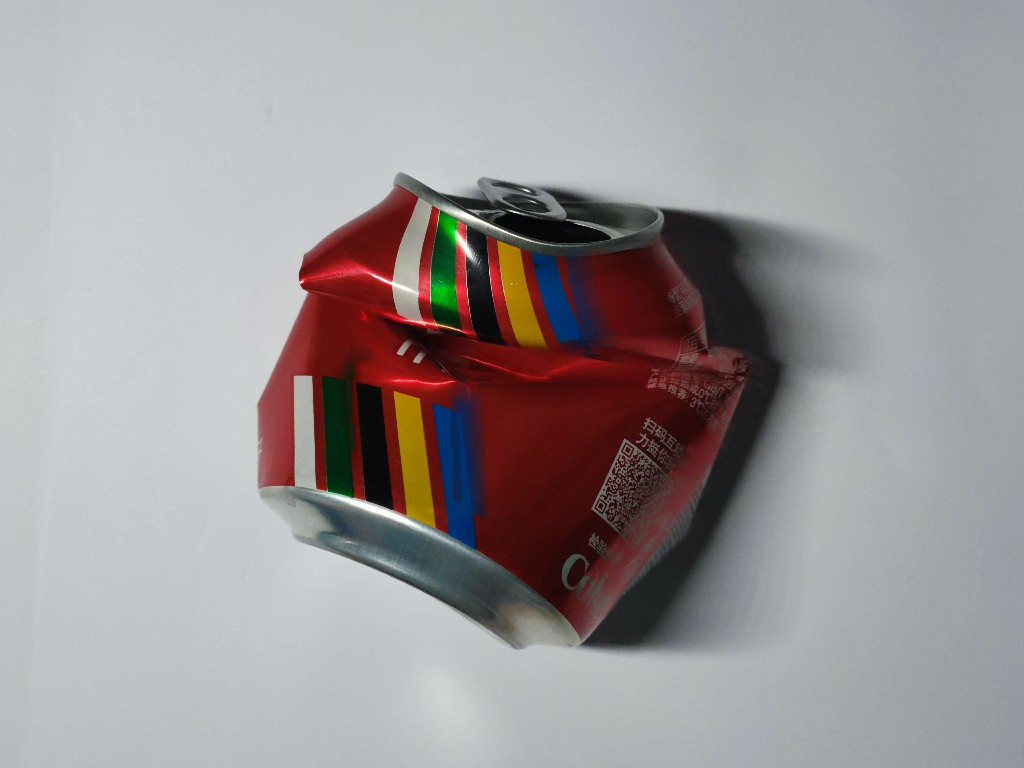can: (246, 162, 757, 662)
